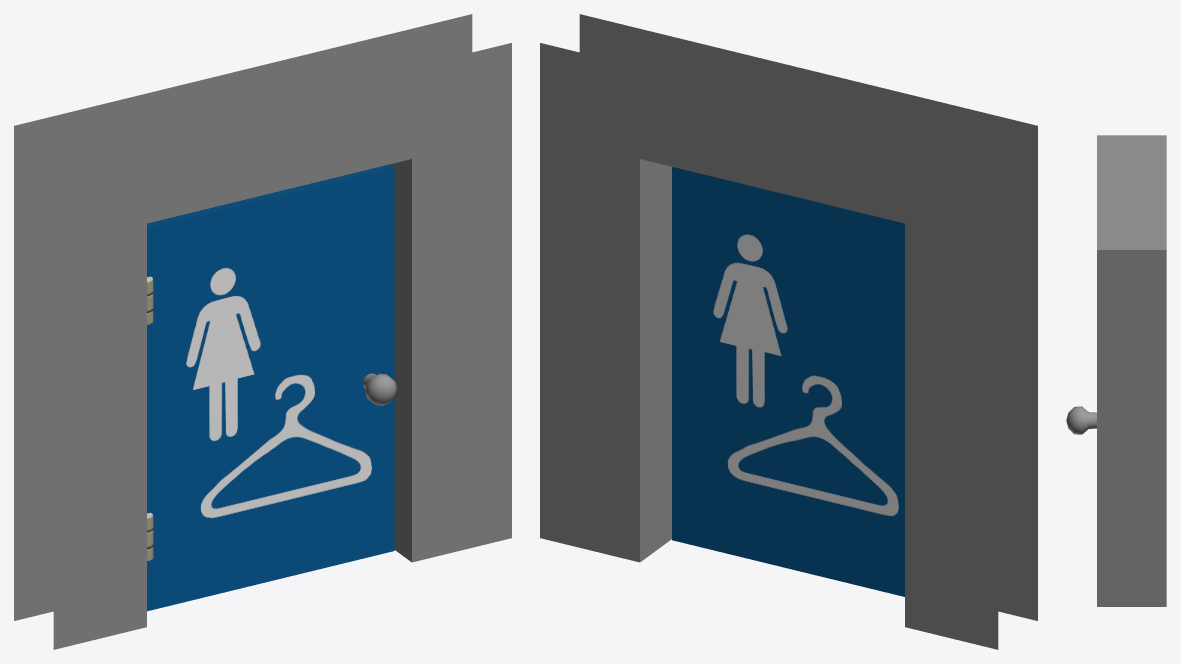
Rendered from dressing_room_door.FBX.
3 renders of one model, left to right at view 1: azimuth 30°, elevation 25°; view 2: azimuth 150°, elevation 25°; view 3: azimuth 270°, elevation 25°, orthographic. The views are drawn at different scales.
Parts seen in each view (by area): view 1: _frame, _door, Sphere001; view 2: _frame, _door; view 3: _frame, Sphere001.
Boxes of the visible parts, box(x1,y1,x2,y2) form: _frame: box(14, 14, 511, 649); _door: box(147, 164, 394, 611); Sphere001: box(362, 373, 397, 405); _frame: box(540, 14, 1037, 649); _door: box(672, 167, 904, 596); _frame: box(1097, 135, 1166, 606); Sphere001: box(1066, 406, 1096, 434).
Bounding box in the file's own units: 3.11 × 3.21 × 0.6682.
